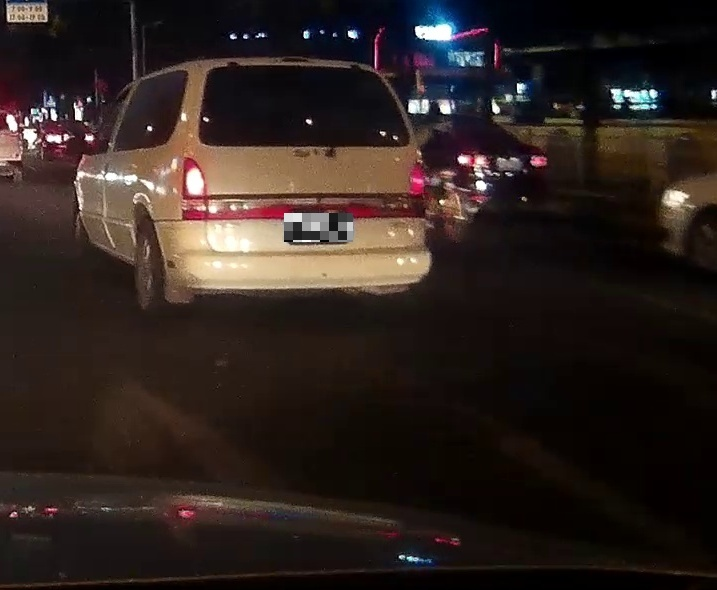L_light: (181, 157, 208, 221)
R_light: (409, 161, 428, 217)
T_light: (275, 59, 311, 66)
night-left: (172, 55, 433, 307)
plate_1: (284, 213, 353, 242)
